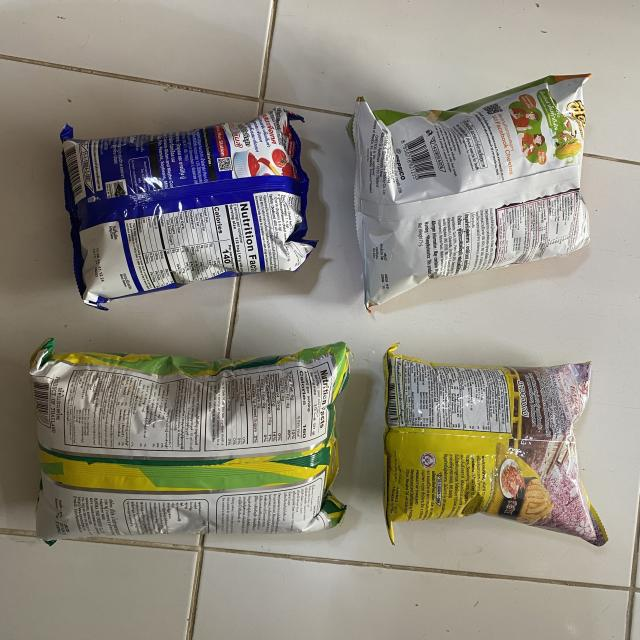plastik: (30, 339, 349, 541), (349, 75, 589, 308), (61, 108, 315, 309), (384, 345, 608, 545)
